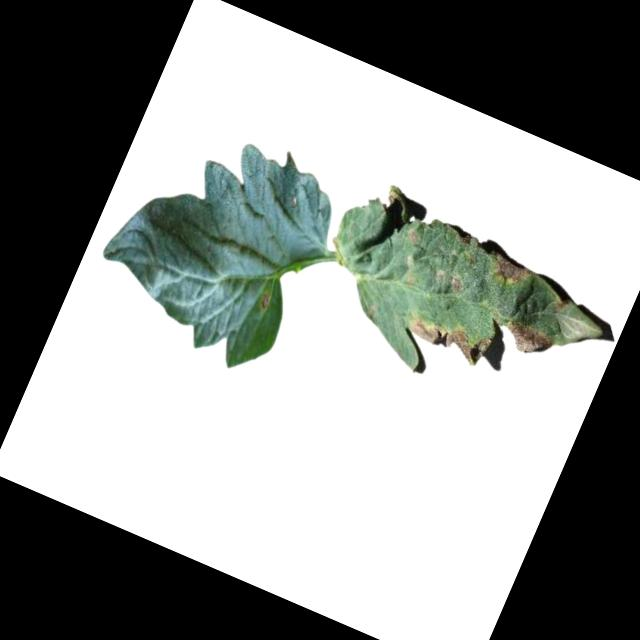Early_blight: (404, 309, 492, 370), (497, 314, 557, 362), (483, 249, 534, 291), (449, 274, 468, 295), (256, 291, 274, 312), (553, 295, 569, 313)
